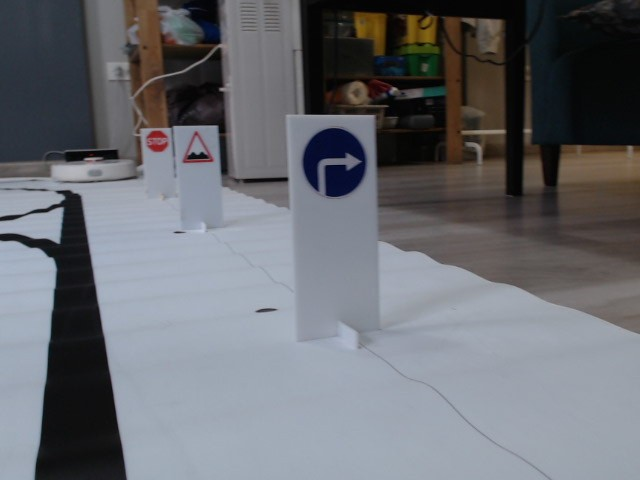Nerov: (183, 130, 213, 164)
Right: (302, 126, 367, 200)
Stop: (145, 130, 169, 153)
